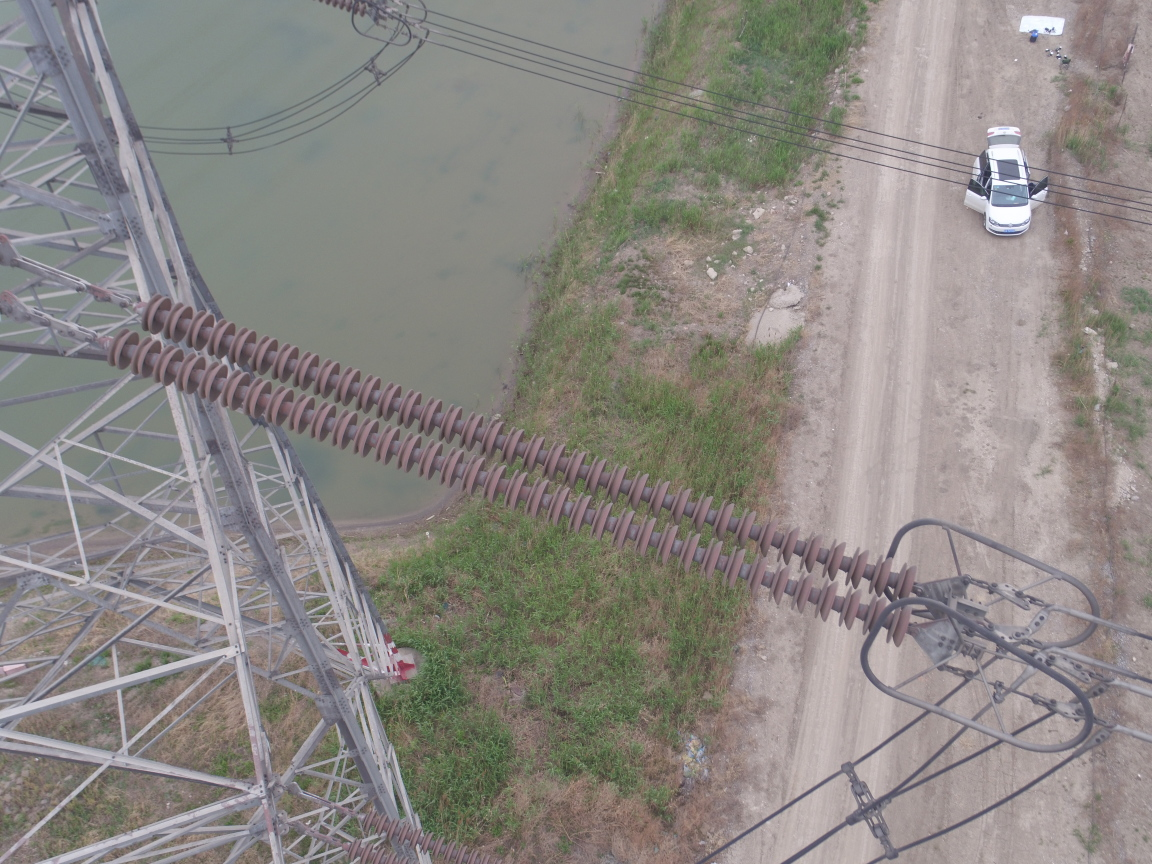insulator: (72, 288, 930, 650)
